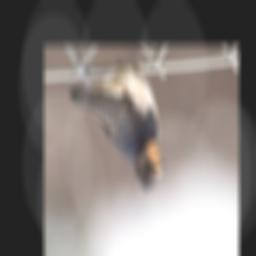Swallow: (68, 56, 166, 193)
